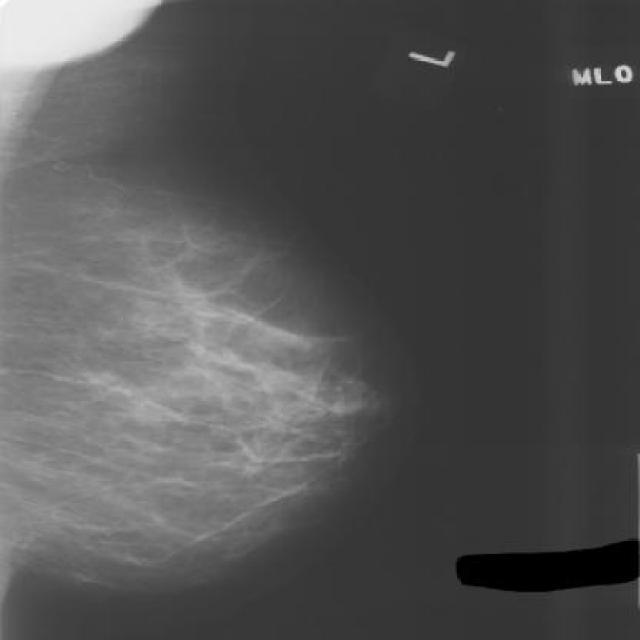tumor: (37, 222, 325, 466)
